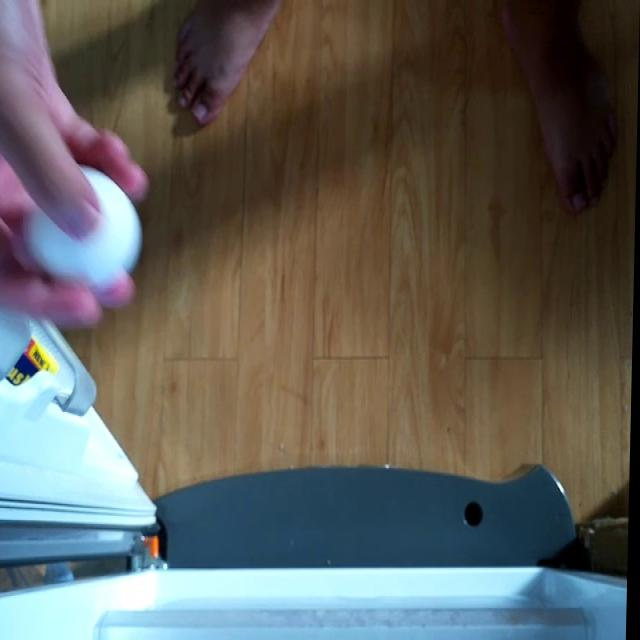egg: (19, 166, 151, 286)
